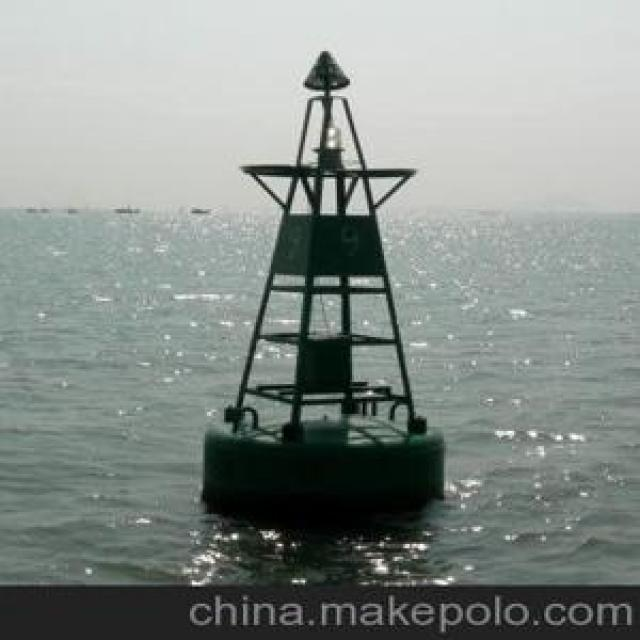buoy: (156, 32, 460, 498)
